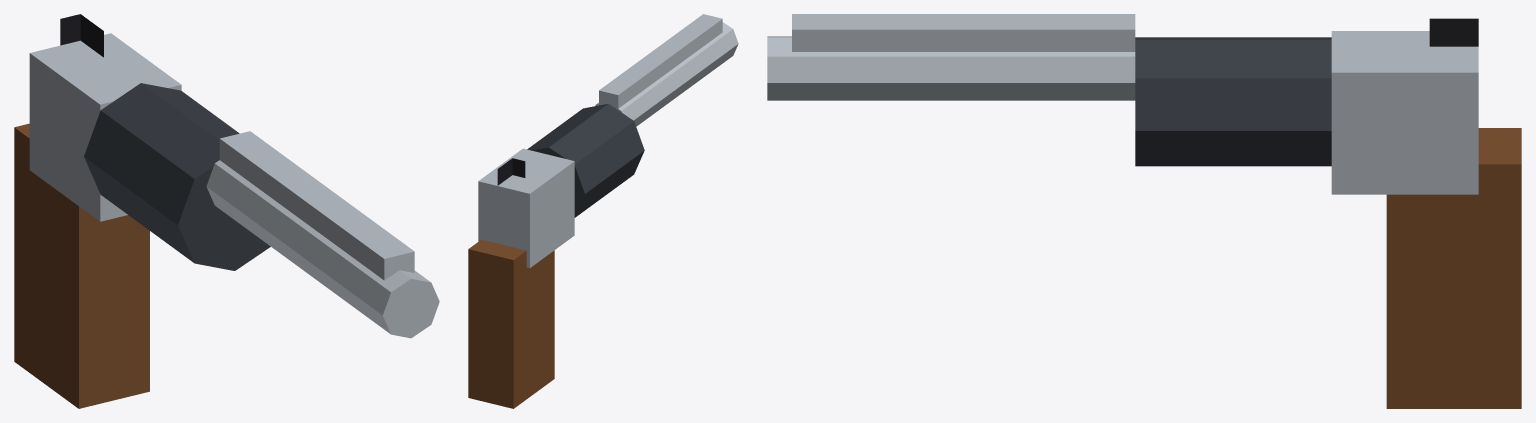
Rendered from Weapon_Revolver.obj.
The picture shows the model from 3 angles, left to right: view 1: azimuth 30°, elevation 25°; view 2: azimuth 150°, elevation 25°; view 3: azimuth 270°, elevation 25°; orthographic projection. The views are drawn at different scales.
Visible parts, largest first — view 1: Grip, Cylinder, Frame, HeavyBarrel, VentRib, Hammer; view 2: Grip, Frame, Cylinder, VentRib, HeavyBarrel, Hammer; view 3: Grip, Cylinder, Frame, HeavyBarrel, VentRib, Hammer.
Part boxes in pixels (x1,y1,x2,y2): Grip: (14, 123, 149, 408); Cylinder: (84, 83, 270, 270); Frame: (29, 33, 181, 221); HeavyBarrel: (206, 160, 439, 338); VentRib: (219, 131, 414, 280); Hammer: (60, 14, 103, 57); Grip: (468, 239, 554, 408); Frame: (478, 148, 574, 268); Cylinder: (527, 103, 644, 217); VentRib: (599, 14, 722, 109); HeavyBarrel: (595, 22, 738, 126); Hammer: (497, 158, 525, 185); Grip: (1386, 128, 1521, 408); Cylinder: (1135, 37, 1331, 166); Frame: (1331, 31, 1478, 194); HeavyBarrel: (767, 36, 1135, 100); VentRib: (792, 14, 1135, 51); Hammer: (1429, 18, 1478, 46).
Bounding box in the file's own units: 0.056 × 0.166 × 0.3075.
